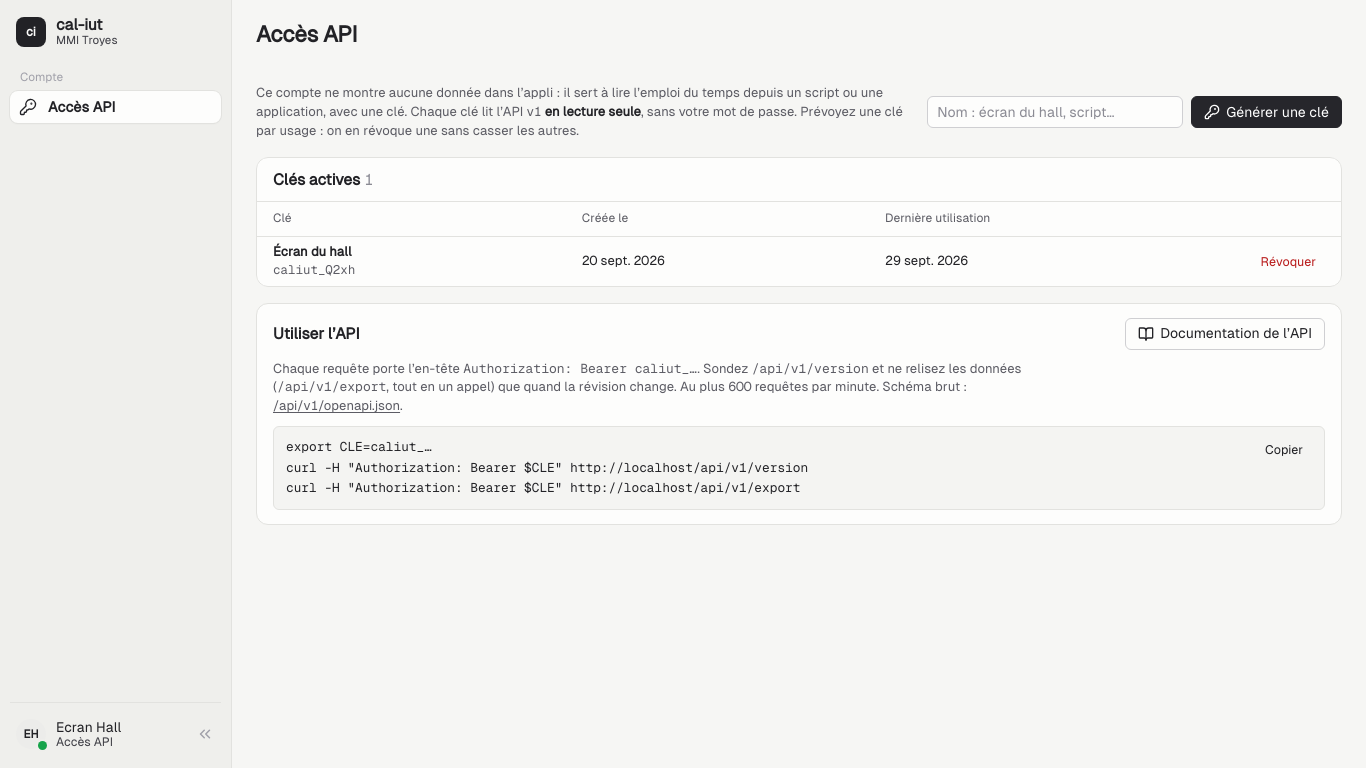
App — compte « Accès API » › génère une clé nommée, affichée une seule fois, avec l'en-tête à coller
Expected: the text "Écran du hall" is shown, 273,244 -> 352,259
In the field named "nom de la nouvelle clé": (1055, 112) 927,96 -> 1183,128, type "Script"
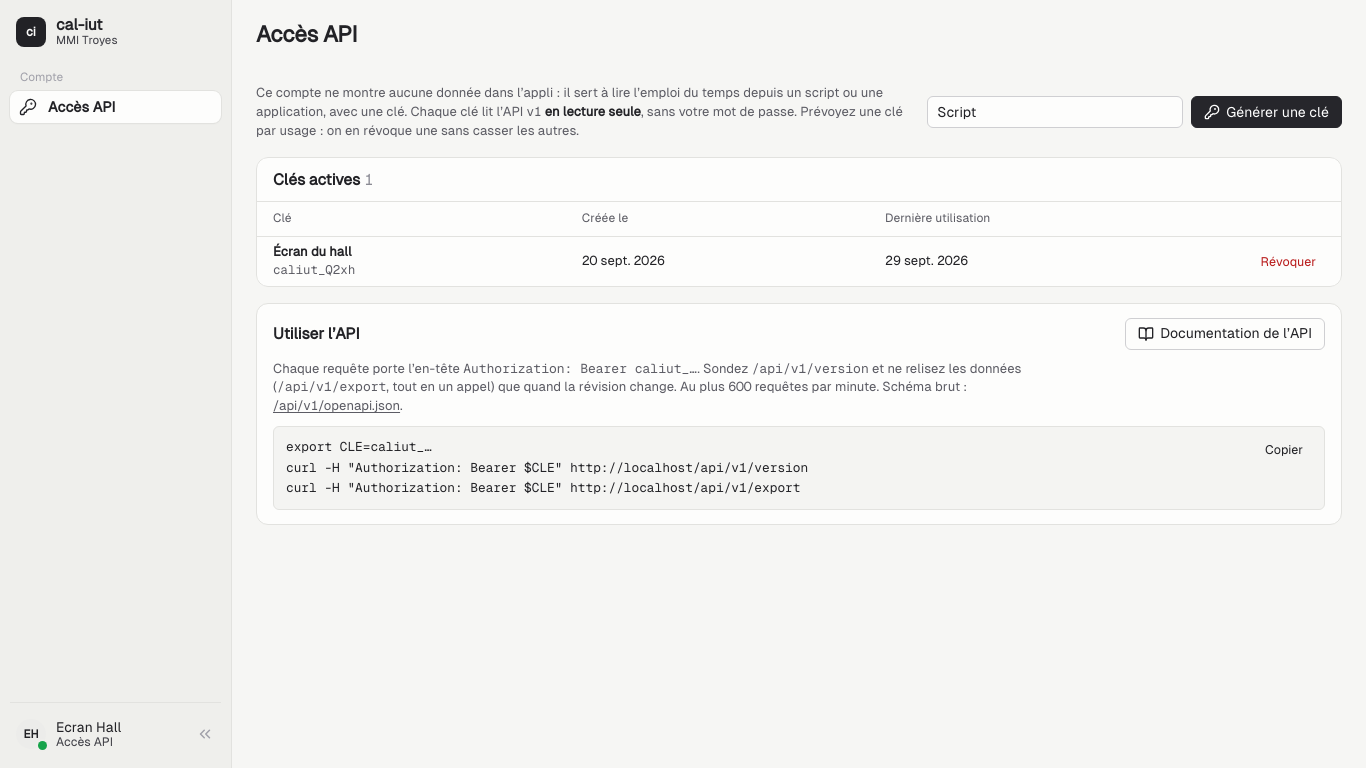
Click the button "Générer une clé": click(1267, 112) 1191,96 -> 1342,128
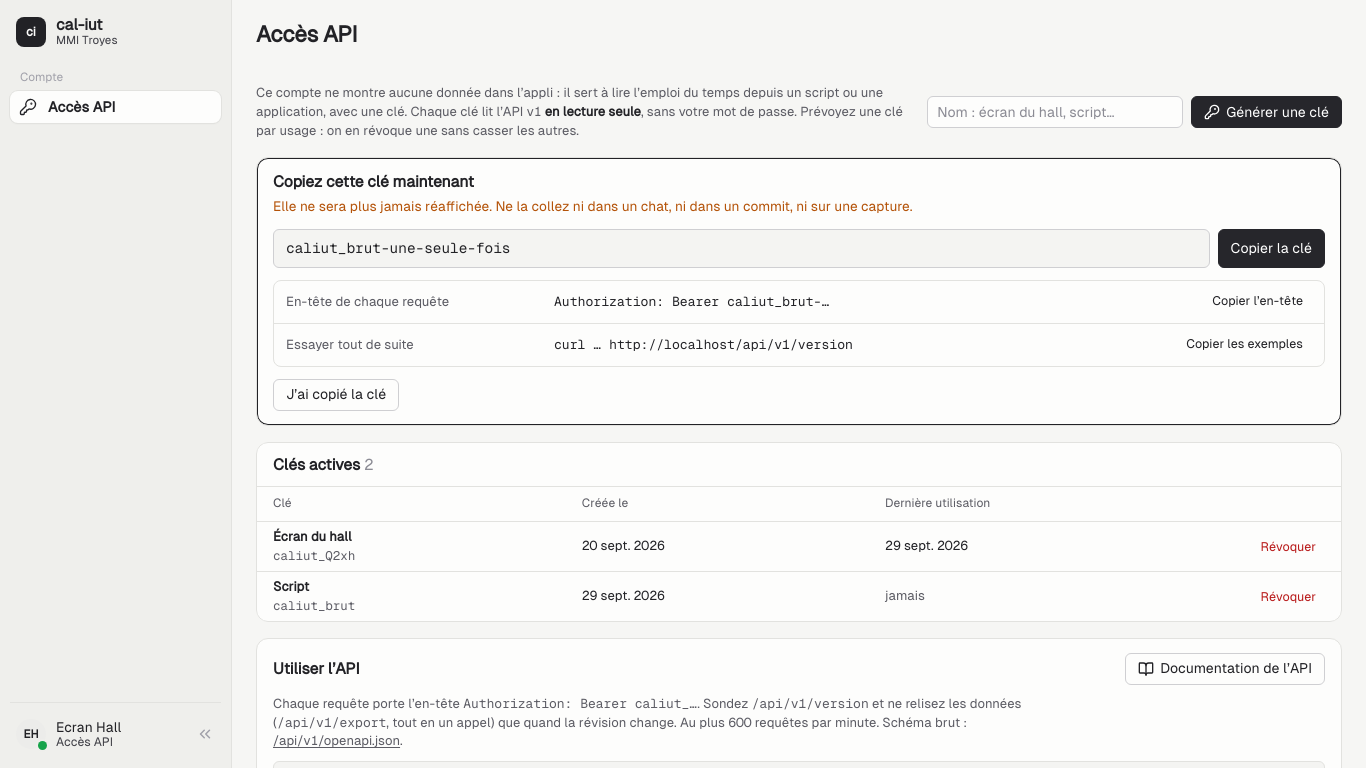
Expected: the text "caliut_brut-une-seule-fois" is shown, 273,229 -> 1210,268
Expected: the button "Copier l’en-tête" is shown, 1203,289 -> 1312,315
Expected: the button "Copier les exemples" is shown, 1177,332 -> 1312,358
